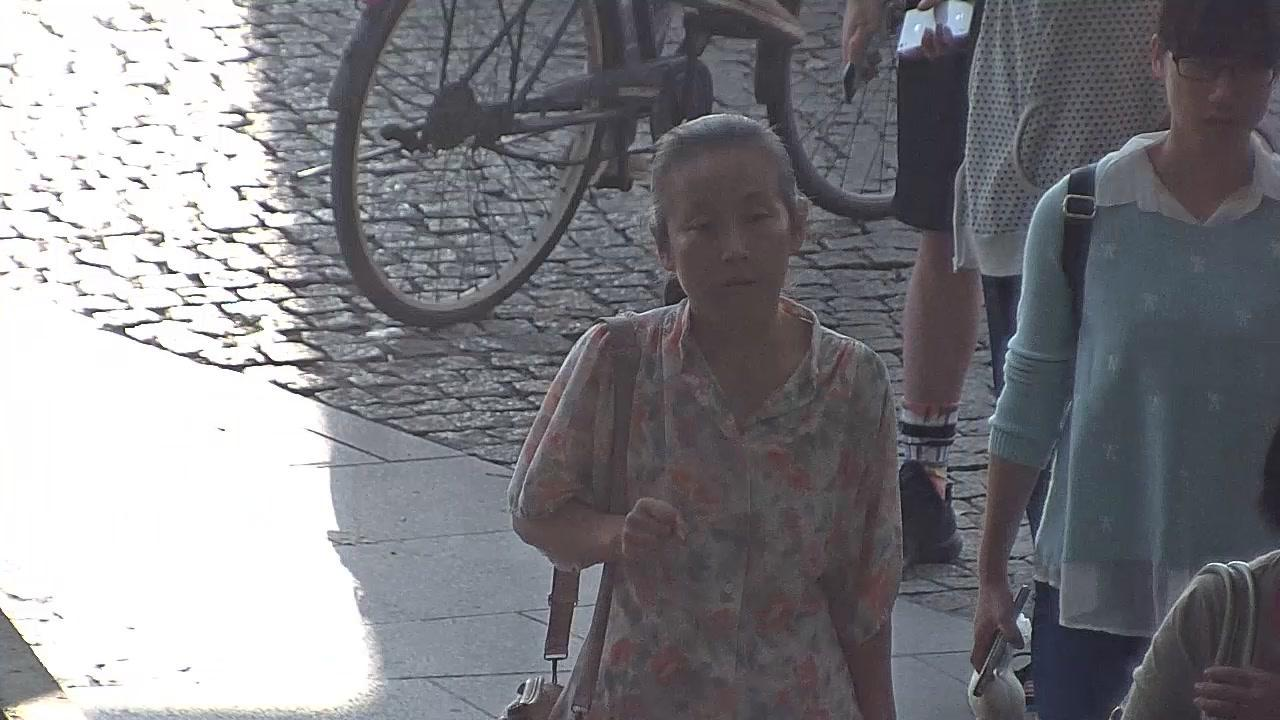person: (501, 113, 902, 720), (964, 0, 1278, 719), (951, 0, 1277, 535), (840, 0, 977, 569)
